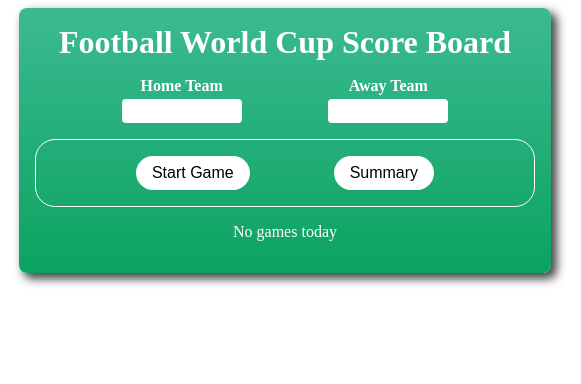
Scenario: test scoreboard › finish the game remove the game from DOM
Type "Spain" into the field with test id "home-name" at (182, 111), box x1=122 y1=99 x2=242 y2=123
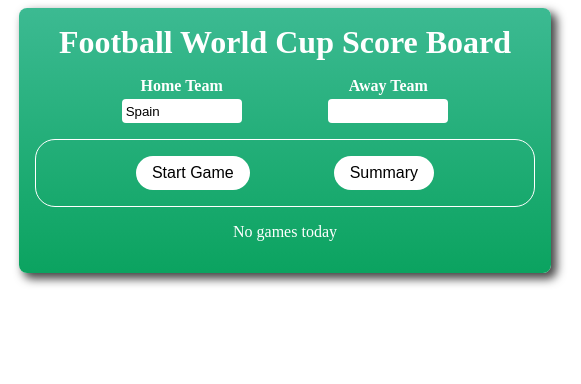
Type "England" into the field with test id "away-name" at (388, 111), box x1=328 y1=99 x2=448 y2=123
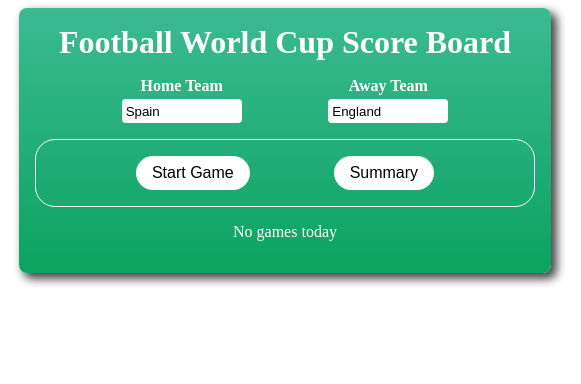
Click the button "Start Game" at (193, 173), box x1=136 y1=156 x2=250 y2=190
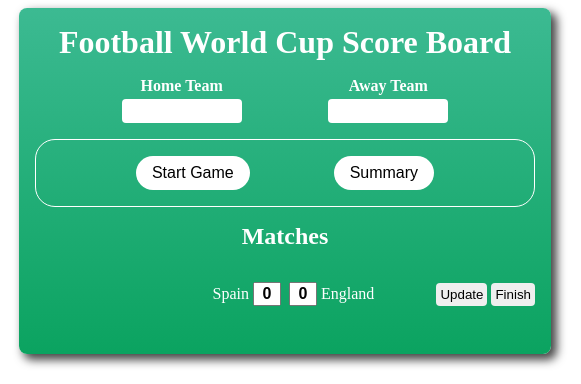
Check: the number of list items is 1, box x1=212 y1=282 x2=535 y2=306
Check: the text "Spain" is shown, box x1=212 y1=285 x2=249 y2=302
Check: the text "England" is shown, box x1=321 y1=285 x2=374 y2=302
# Finish a game
Click the button "Finish" at (513, 294), box x1=491 y1=282 x2=535 y2=306
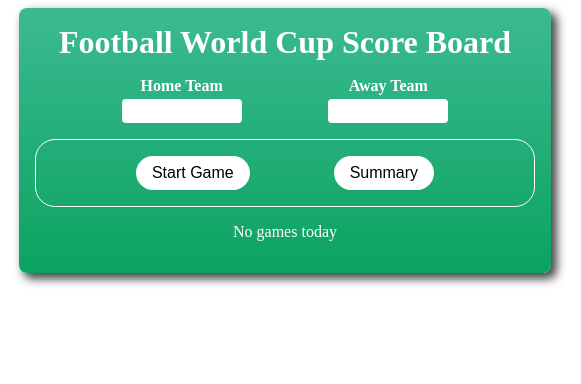
Check: the text "Spain" is gone
Check: the text "England" is gone
